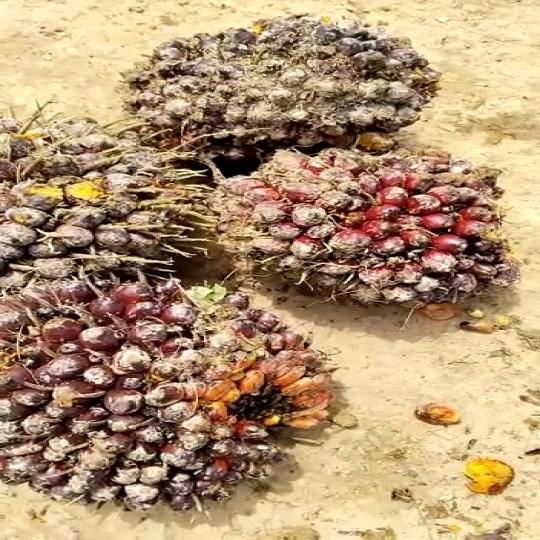kurang masak: (0, 264, 347, 511), (225, 138, 540, 317), (123, 14, 418, 153), (0, 116, 202, 296)
